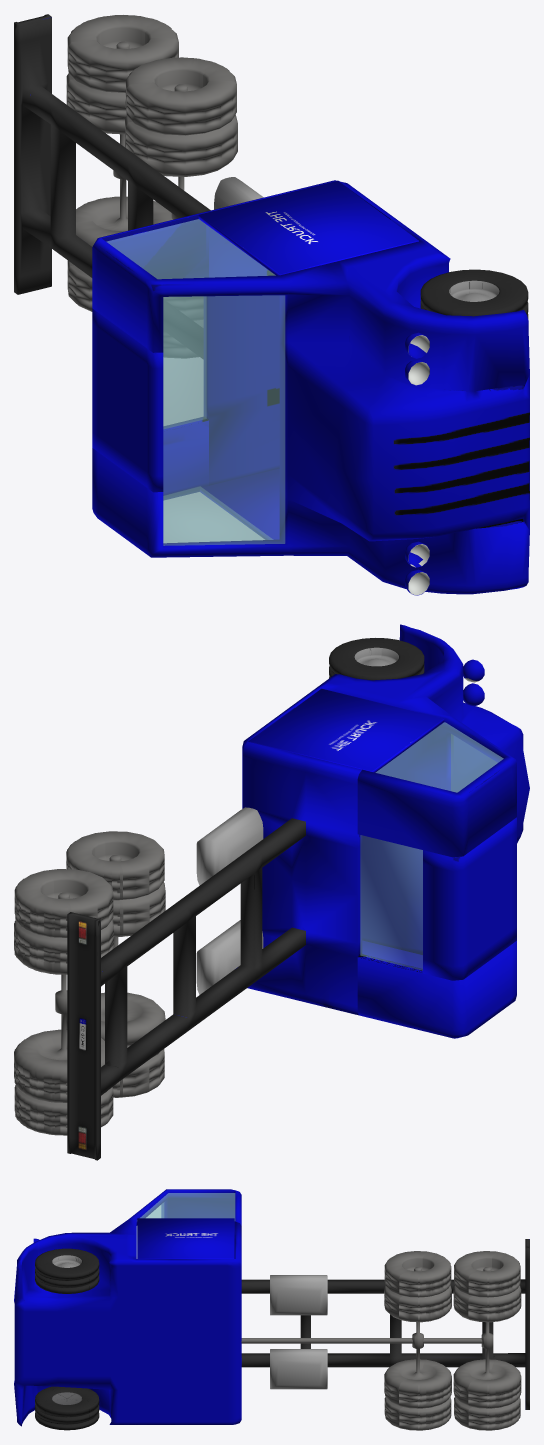
Rendered from chassy_1.fbx.
3 views of the same model, one above another, from view 1: azimuth 30°, elevation 25°; view 2: azimuth 150°, elevation 25°; view 3: azimuth 270°, elevation 25° (orthographic). The views are drawn at different scales.
Visible parts, largest first — view 1: Chassy, Glass, RearWheel0, RearWheel1, DoorLeft0, DoorLeft1, RearWindow, FrontWheel1, DoorRight1, DoorRight0, Box1; view 2: Chassy, RearWheel1, RearWheel0, DoorLeft0, RearWindow, DoorLeft1, FrontWheel1, Box1, Box0, Glass, DoorRight0; view 3: Chassy, RearWheel1, RearWheel0, DoorLeft0, FrontWheel1, FrontWheel0, Box1, Box0, DoorLeft1, Cylinder.
Boxes of the visible parts, x1,y1,x2,y2 form: Chassy: (14,14,529,594); Glass: (163,295,285,545); RearWheel0: (125,57,237,358); RearWheel1: (66,15,178,311); DoorLeft0: (198,181,418,275); DoorLeft1: (106,219,275,279); RearWindow: (163,296,206,428); FrontWheel1: (420,269,528,318); DoorRight1: (163,486,272,542); DoorRight0: (200,469,279,539); Box1: (214,177,263,209); Chassy: (67,624,529,1160); RearWheel1: (14,869,113,1135); RearWheel0: (66,831,165,1097); DoorLeft0: (249,688,444,772); RearWindow: (360,835,422,970); DoorLeft1: (375,722,503,792); FrontWheel1: (329,638,424,680); Box1: (196,807,263,885); Box0: (196,920,263,994); Glass: (451,734,496,792); DoorRight0: (362,940,422,968); Chassy: (14,1189,529,1426); RearWheel1: (453,1251,521,1430); RearWheel0: (384,1251,451,1430); DoorLeft0: (137,1218,234,1258); FrontWheel1: (35,1248,99,1293); FrontWheel0: (35,1386,99,1430); Box1: (270,1275,327,1315); Box0: (270,1349,327,1389); DoorLeft1: (140,1193,235,1220); Cylinder: (241,1338,482,1343).
Bounding box in the file's own units: 7.4 × 6.76 × 19.1.
8 materials, 3 textured.
